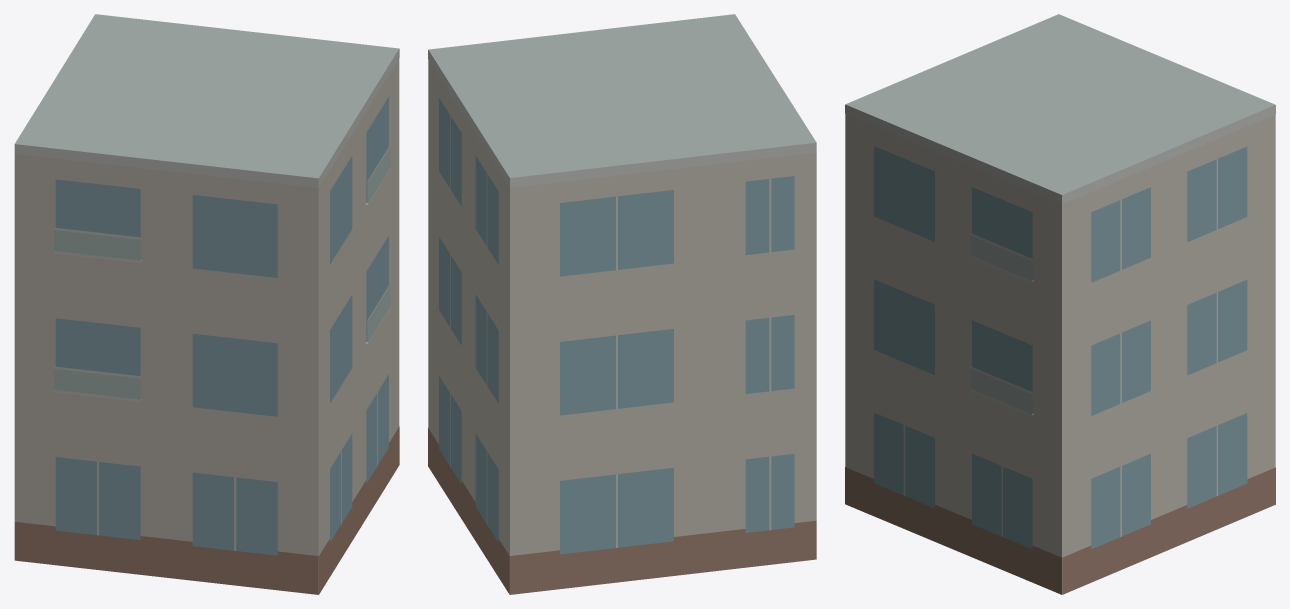
Rendered from survey-upis-32495570.glb.
3 renders of one model, left to right at view 1: azimuth 30°, elevation 25°; view 2: azimuth 150°, elevation 25°; view 3: azimuth 270°, elevation 25°, orthographic. The views are drawn at different scales.
Visible parts, largest first — view 1: survey-upis-32495570.tmp; view 2: survey-upis-32495570.tmp; view 3: survey-upis-32495570.tmp.
Boxes of the visible parts, x1=… form: survey-upis-32495570.tmp: x1=14, y1=14, x2=399, y2=594; survey-upis-32495570.tmp: x1=428, y1=14, x2=816, y2=594; survey-upis-32495570.tmp: x1=845, y1=14, x2=1275, y2=594.
Size of the model in its own units: 10.11 by 10.4 by 10.16.
